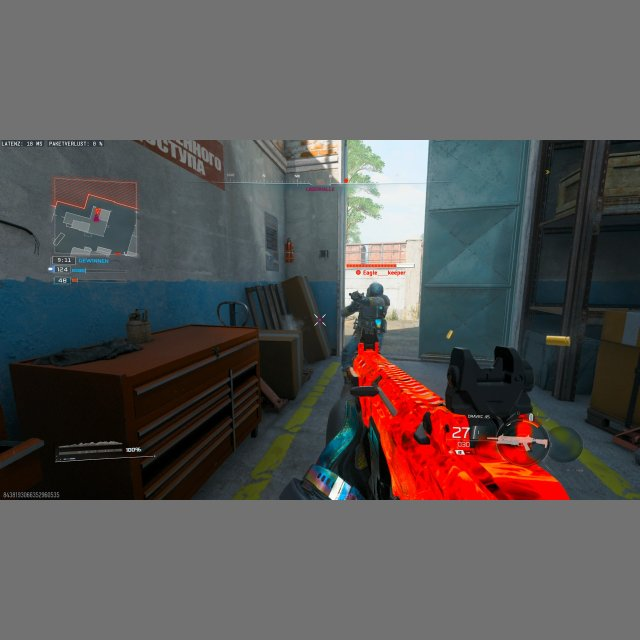head: (367, 282, 383, 296)
player: (344, 282, 390, 354)
